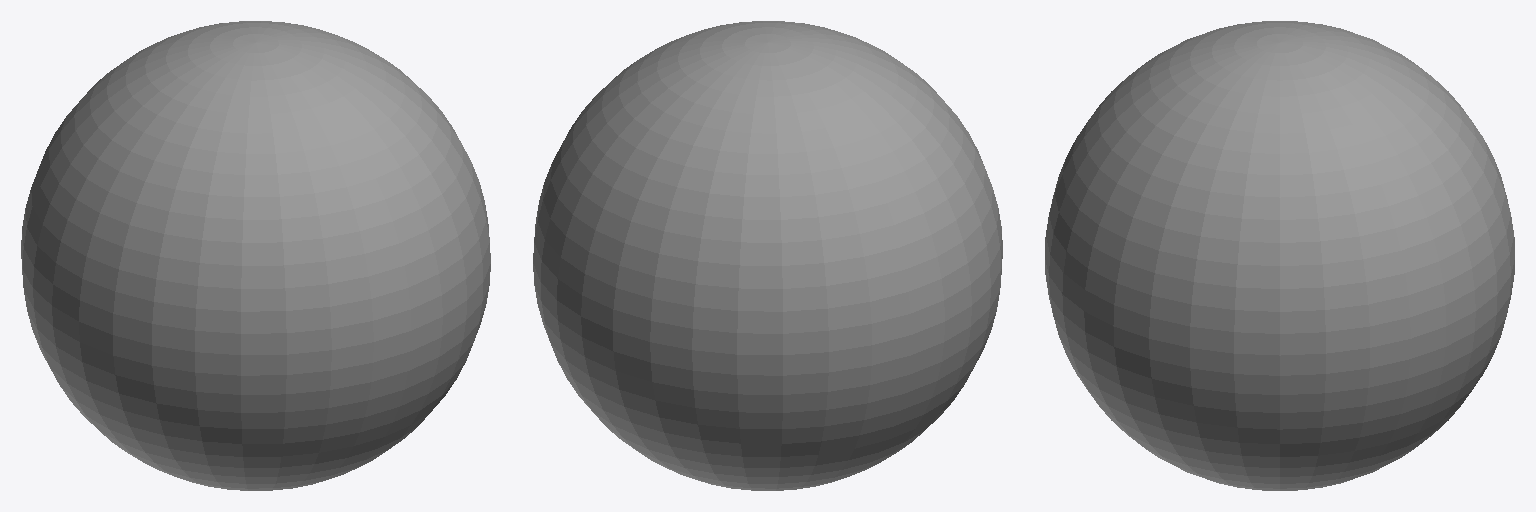
The model's file is Star.obj.
3 renders of one model, left to right at view 1: azimuth 30°, elevation 25°; view 2: azimuth 150°, elevation 25°; view 3: azimuth 270°, elevation 25°, orthographic.
Visible parts, largest first — view 1: Sphere; view 2: Sphere; view 3: Sphere.
Boxes of the visible parts, box(x1,y1,x2,y2) form: Sphere: box(21, 21, 490, 490); Sphere: box(533, 21, 1002, 490); Sphere: box(1045, 21, 1514, 490).
Bounding box in the file's own units: 26 × 26 × 26.